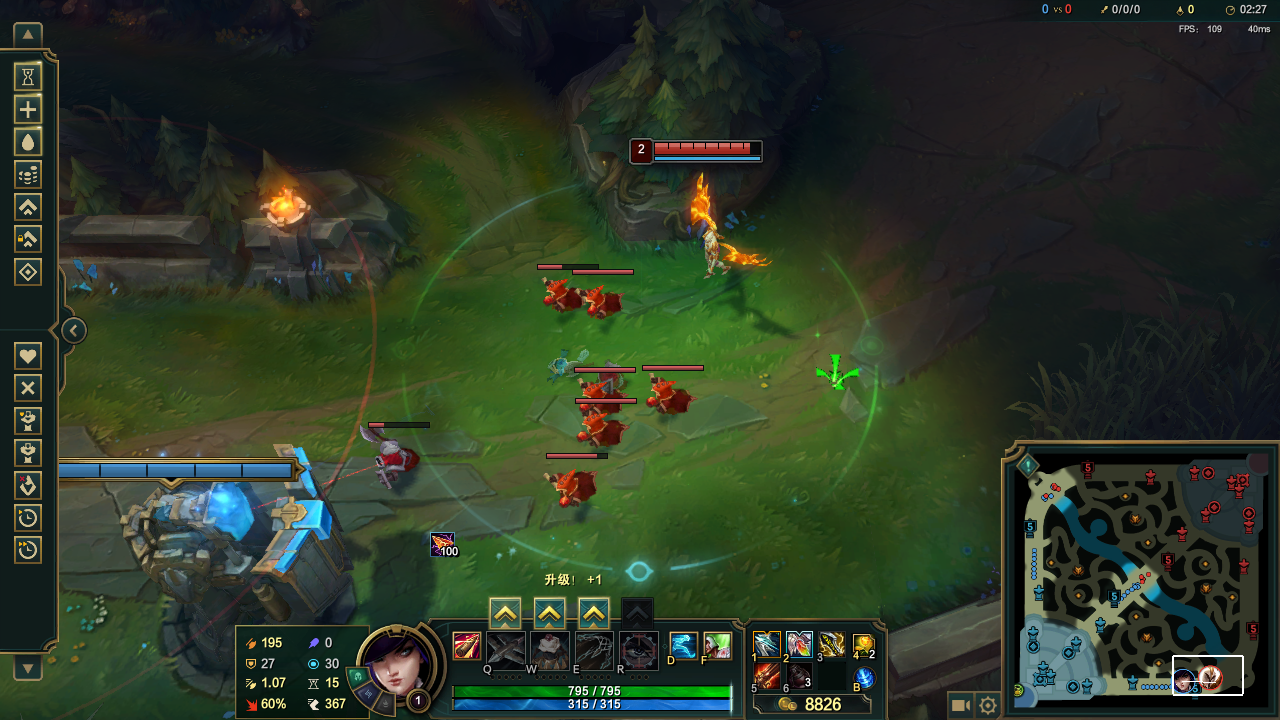DFYX: (651, 140, 760, 159)
